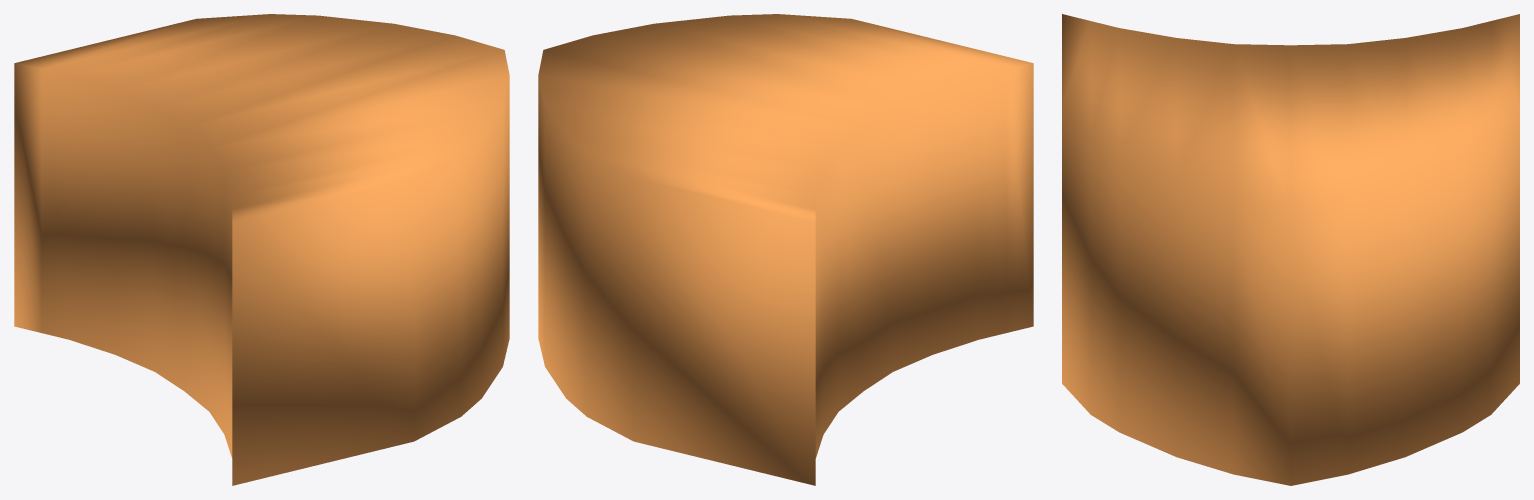
3 views of the same model, side by side, from view 1: azimuth 30°, elevation 25°; view 2: azimuth 150°, elevation 25°; view 3: azimuth 270°, elevation 25° (orthographic). The views are drawn at different scales.
Visible parts, largest first — view 1: 5; view 2: 5; view 3: 5.
Part boxes in pixels (x1,y1,x2,y2): 5: [14, 14, 509, 485]; 5: [538, 14, 1033, 485]; 5: [1062, 14, 1519, 485].
Bounding box in the file's own units: 3.03 × 2 × 3.
